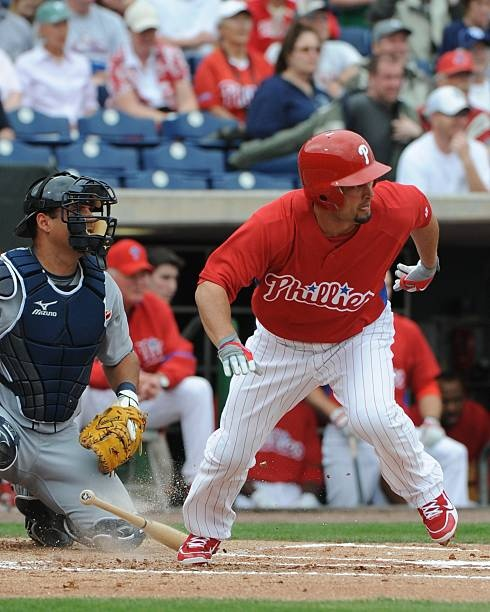bita: (73, 492, 203, 555)
